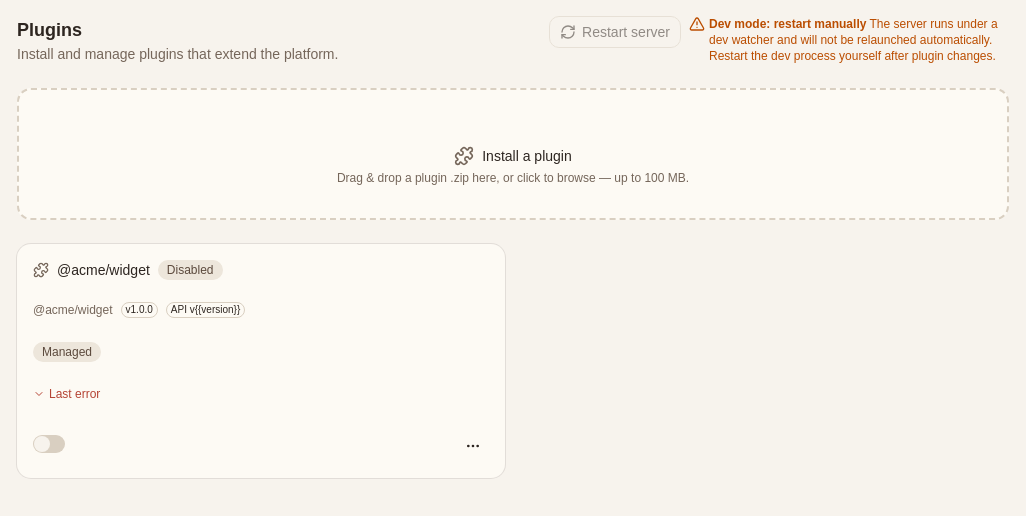
Test: Pin (a) — badge matrices render deterministically › failed rows carry the lastError Collapsible with the error text
Click the button "Last error". click: (67, 394)
box: [33,386,100,402]
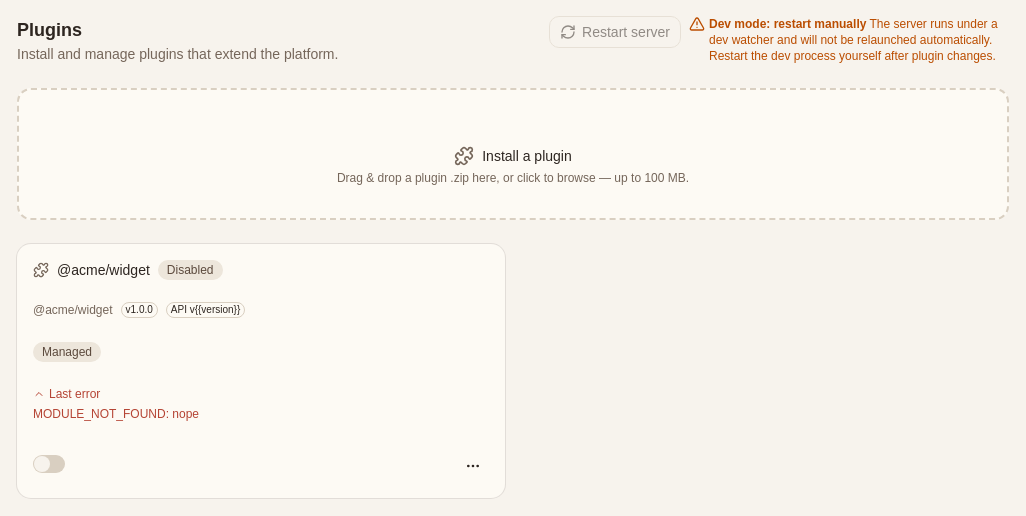
Expected: the text "MODULE_NOT_FOUND: nope" is shown, [33,407,199,421]
